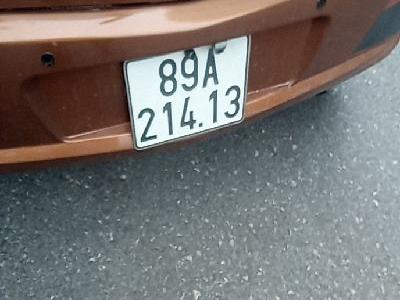lisence: (122, 33, 253, 153)
